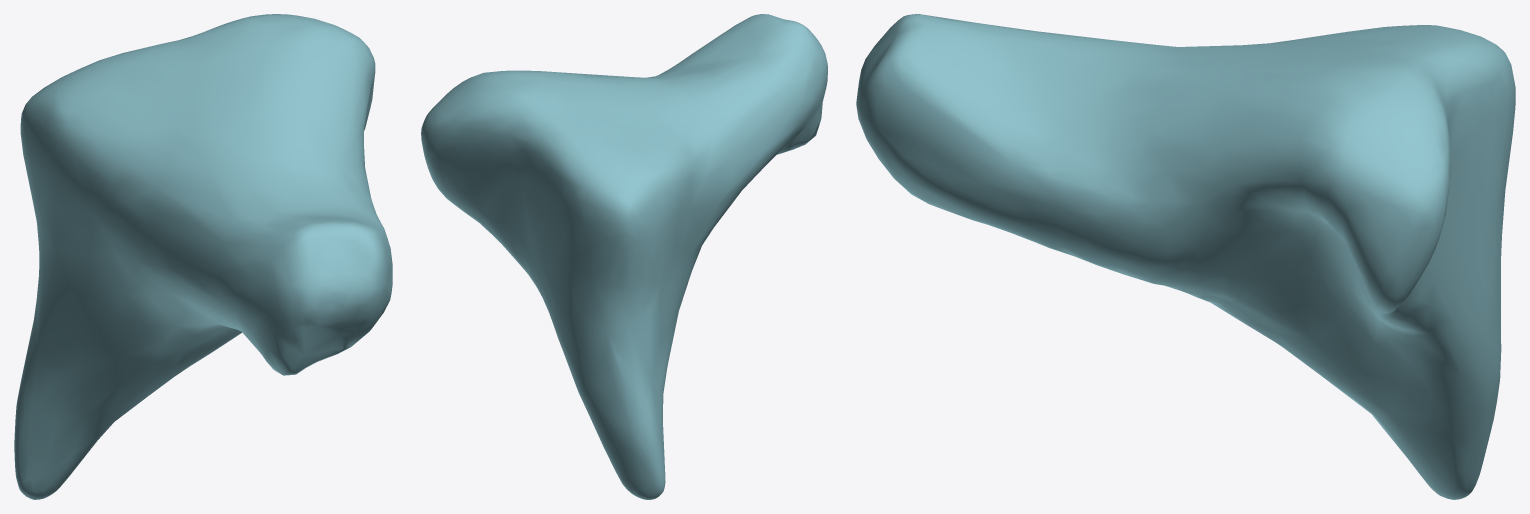
3 views of the same model, side by side, from view 1: azimuth 30°, elevation 25°; view 2: azimuth 150°, elevation 25°; view 3: azimuth 270°, elevation 25° (orthographic). The views are drawn at different scales.
Parts seen in each view (by area): view 1: 左侧杓状软骨; view 2: 左侧杓状软骨; view 3: 左侧杓状软骨.
Part boxes in pixels (<box>): 左侧杓状软骨: <box>14,14,392,499</box>; 左侧杓状软骨: <box>421,14,827,499</box>; 左侧杓状软骨: <box>856,14,1515,499</box>.
Size of the model in its own units: 0.00802 by 0.0107 by 0.0119.
